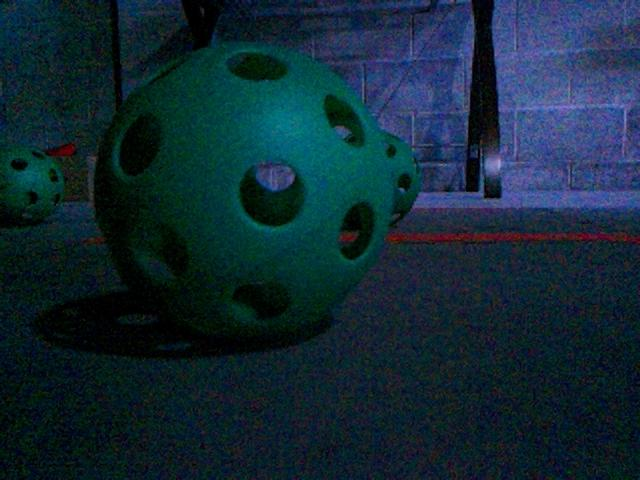Green: (92, 42, 420, 341), (0, 145, 68, 223), (381, 131, 419, 223)
